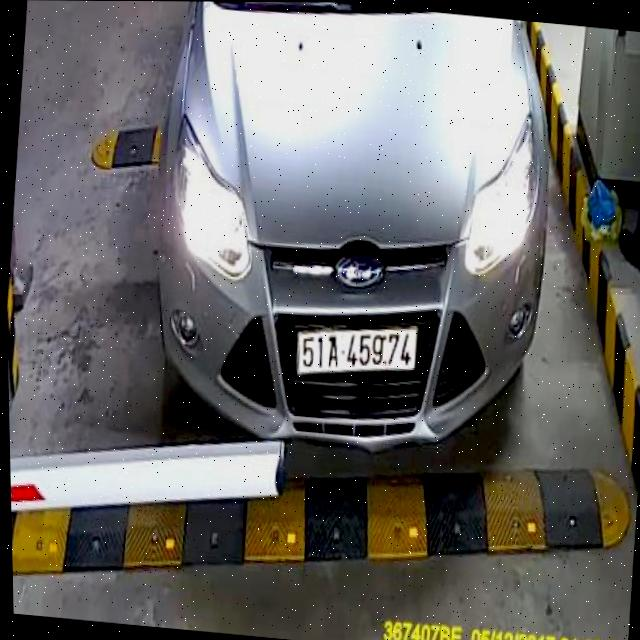car: (131, 1, 583, 477)
plate: (285, 317, 425, 389)
